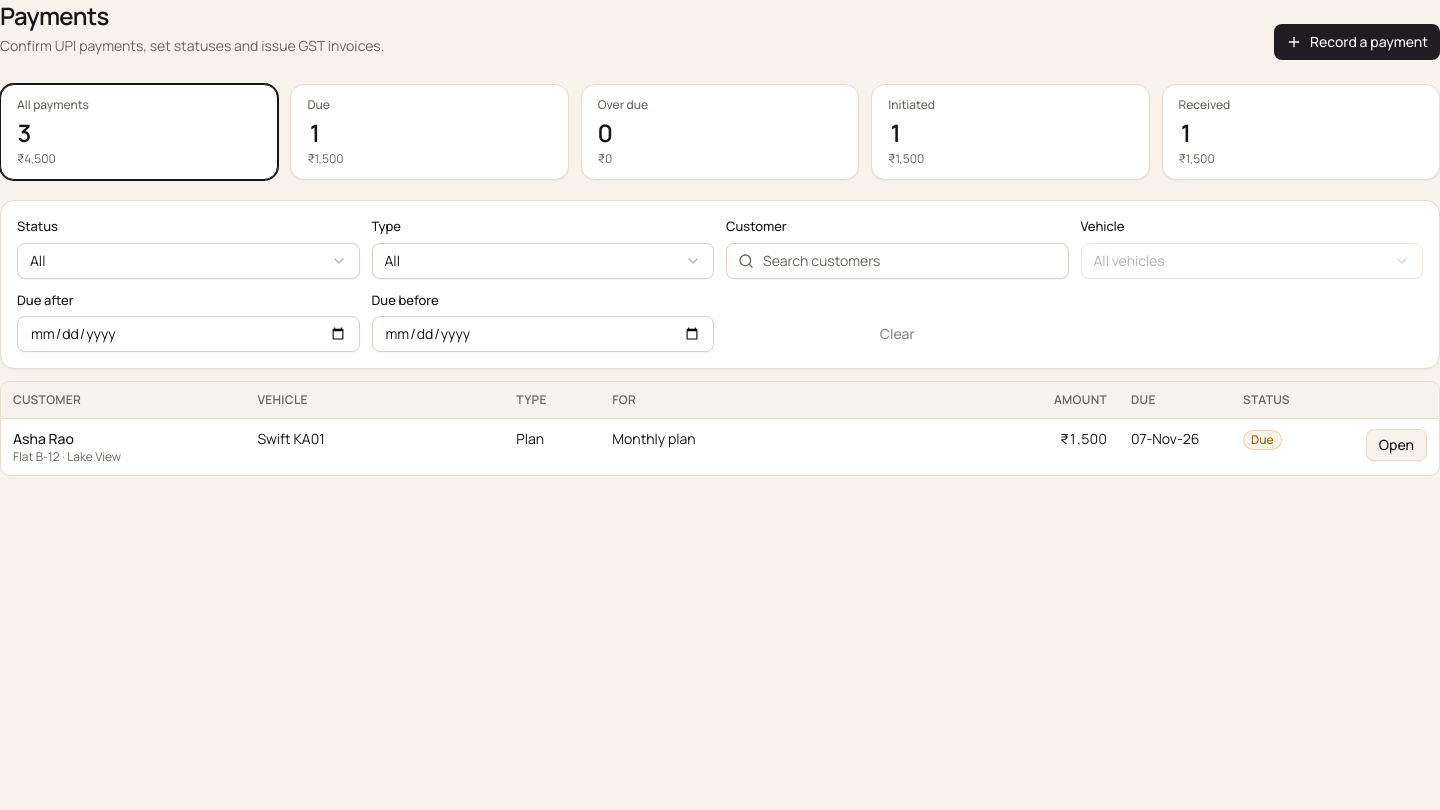
Test case: payments page › offers reject only for Initiated or Received
The width and height of the screenshot is (1440, 810).
Click the button "Open" at x=1396, y=444, box [1366,428,1427,460]
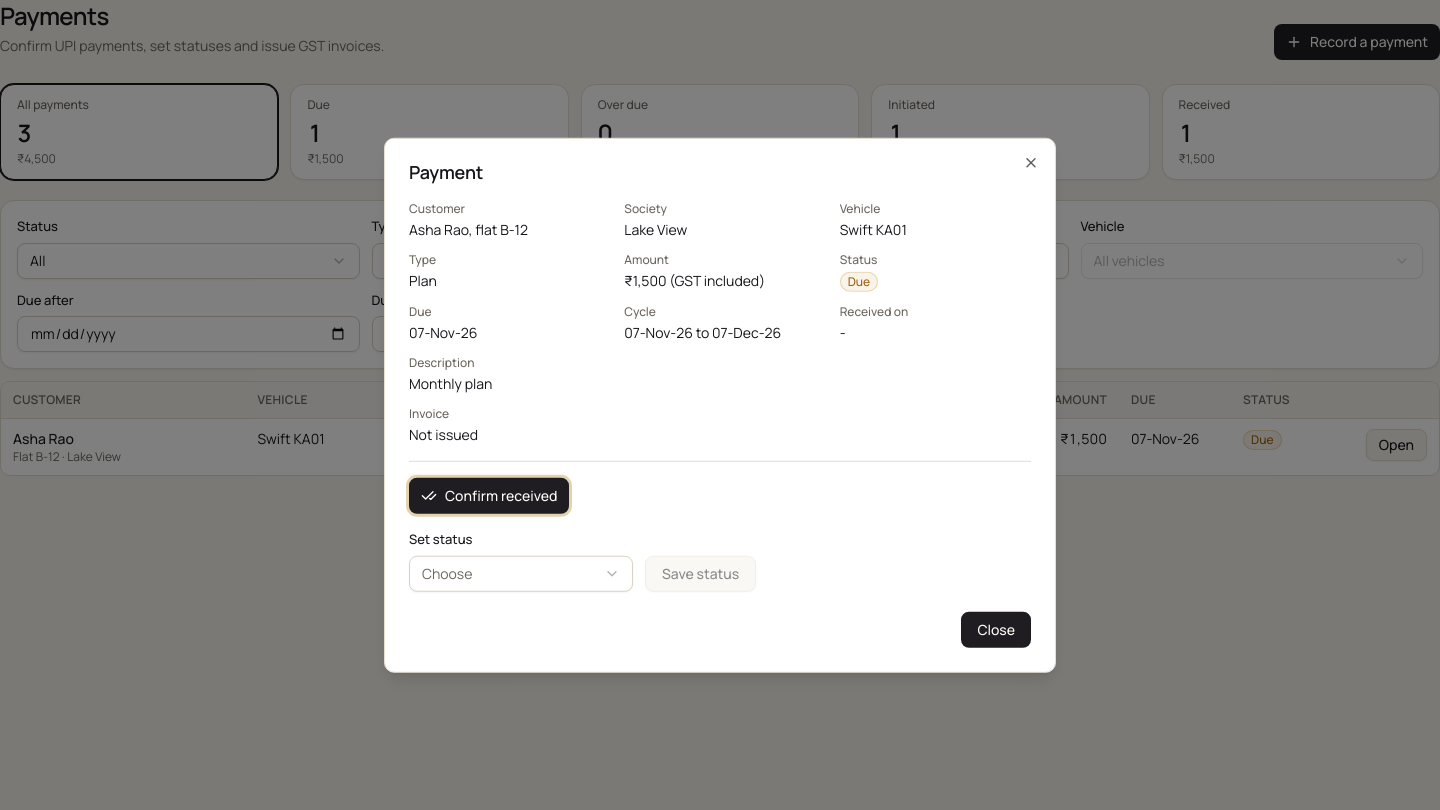
Check: the button "Confirm received" is shown, box [409,478,569,514]
